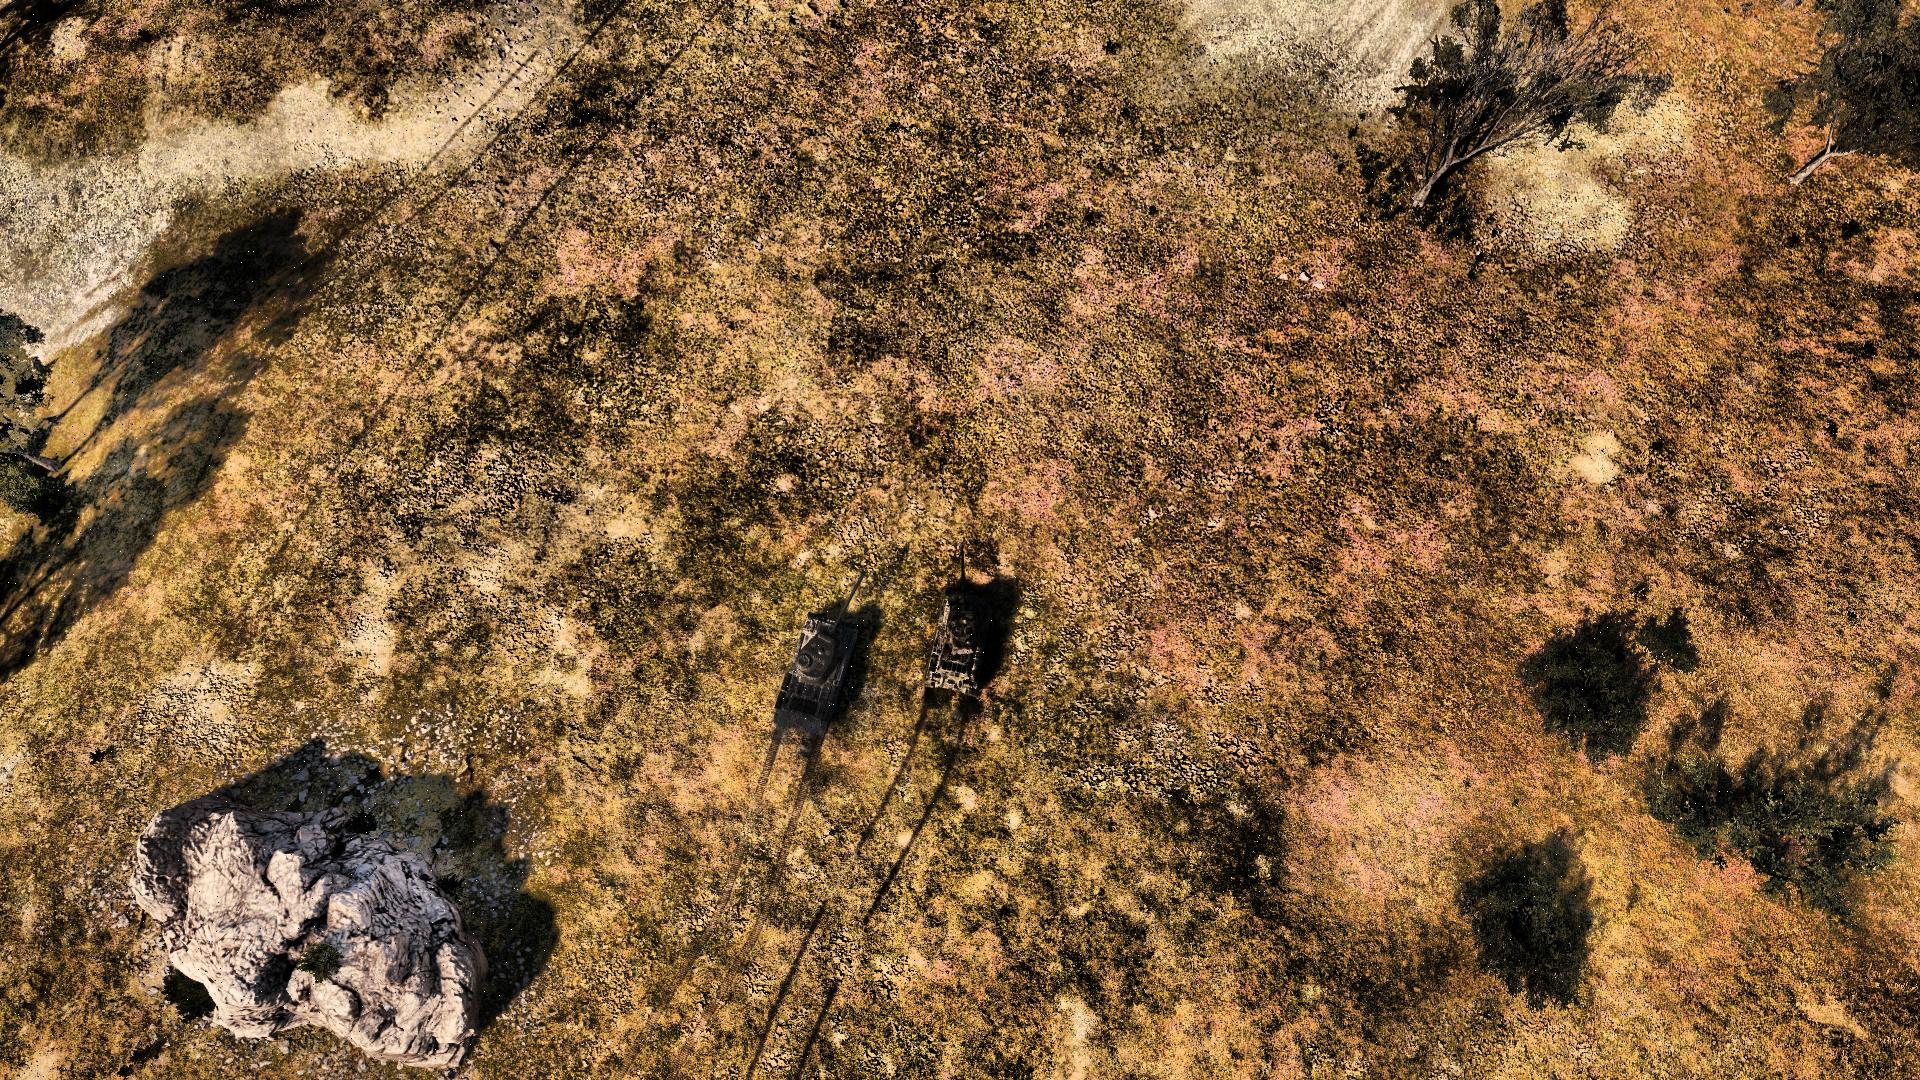military-vehicle: (773, 574, 872, 738), (924, 542, 1000, 703)
